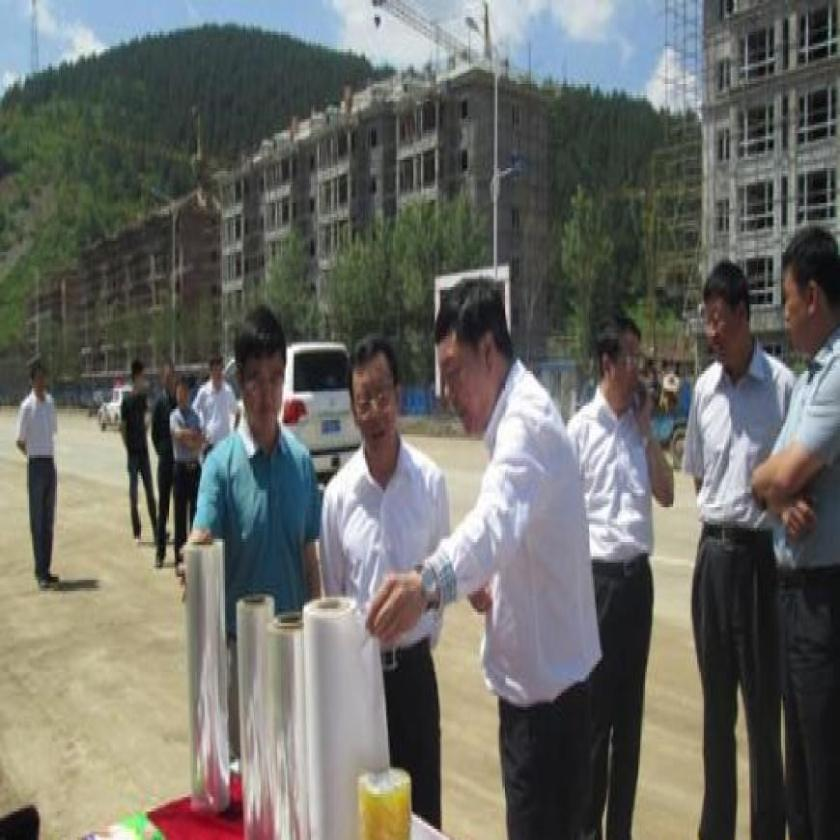Sin_casco: (428, 279, 514, 446), (781, 217, 840, 355), (232, 302, 283, 442), (344, 332, 398, 464), (698, 257, 754, 371), (596, 312, 647, 416), (207, 350, 229, 389), (31, 360, 50, 399), (129, 359, 147, 396), (175, 377, 192, 415)
